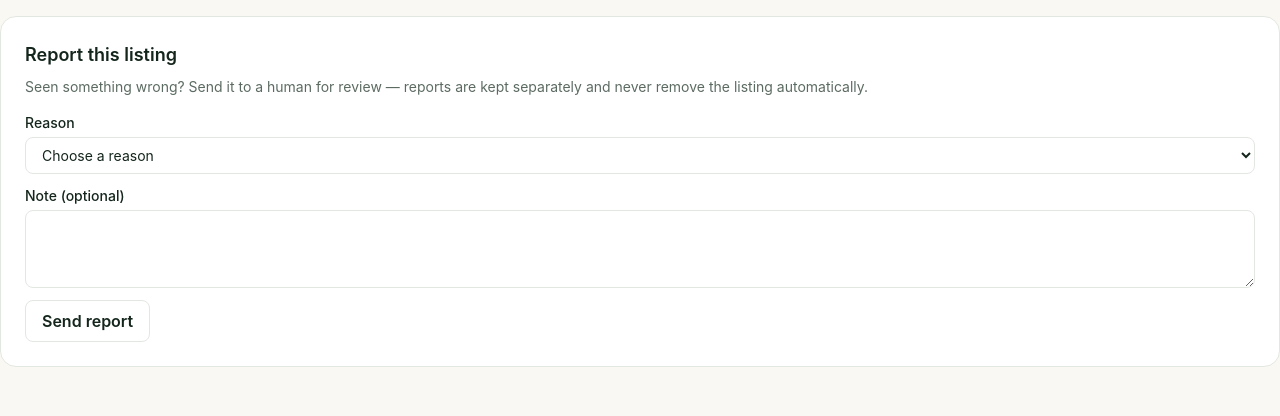
Test: ReportListing › confirms the listing is flagged after a successful report
Step 1. Select "Listing looks fake or duplicated" in the dropdown labelled "Reason" → (640, 156), box [25,137,1255,174]
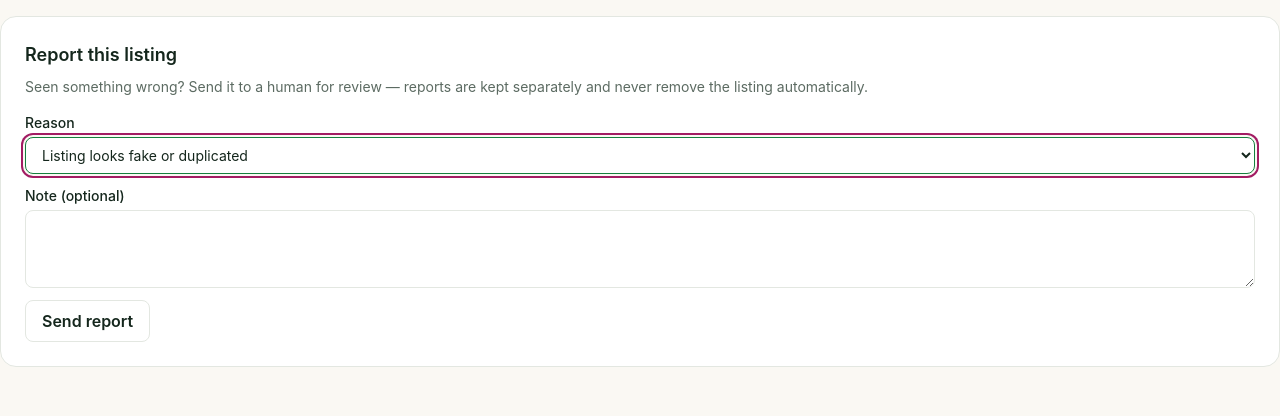
Step 2. Click the button "Send report" → (88, 321), box [25,300,150,342]
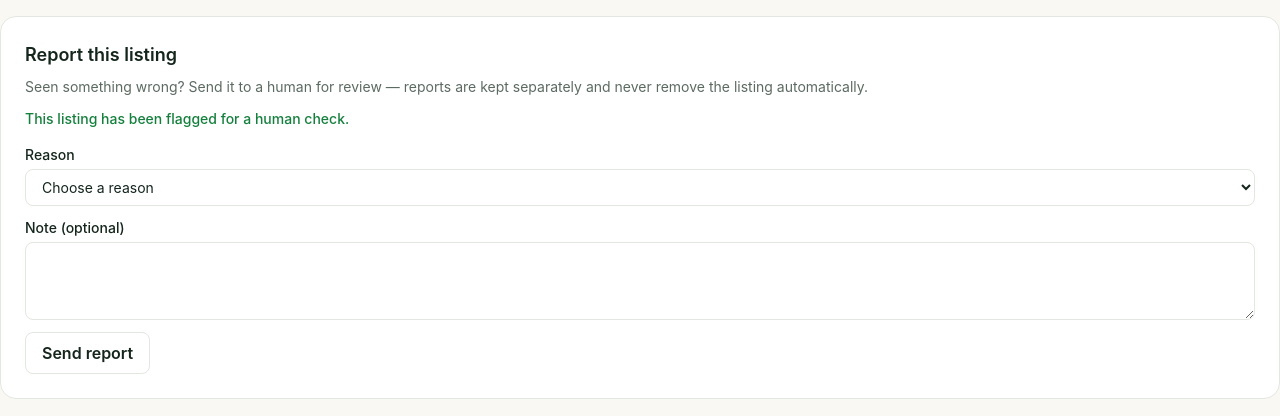
Expected: the text "This listing has been flagged for a human check." is shown, [25,110,349,127]
